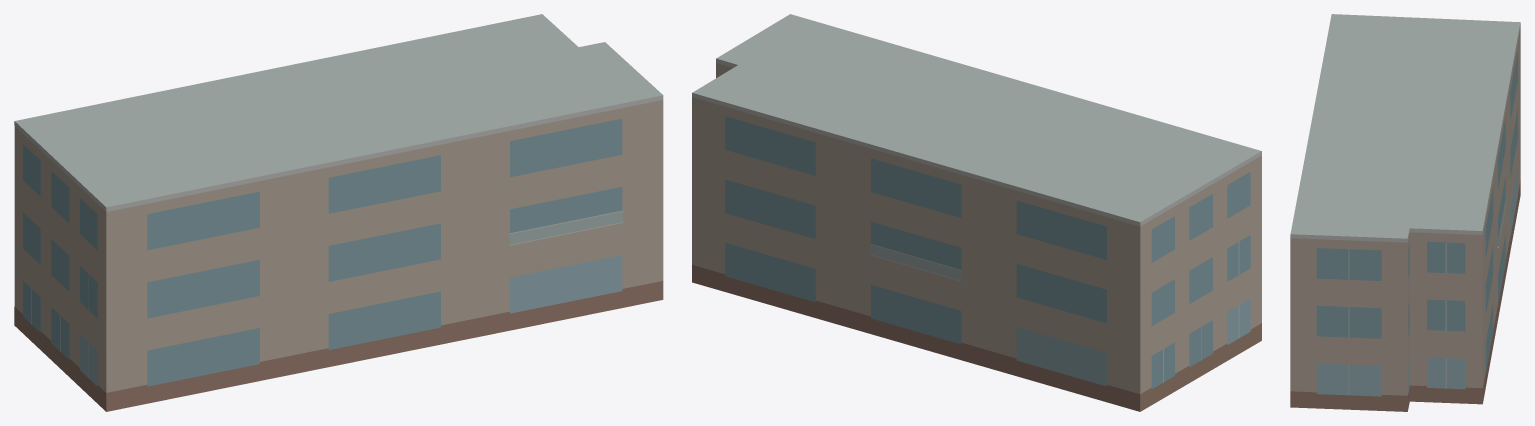
Rendered from survey-upis-32839034.glb.
3 renders of one model, left to right at view 1: azimuth 30°, elevation 25°; view 2: azimuth 150°, elevation 25°; view 3: azimuth 270°, elevation 25°, orthographic. The views are drawn at different scales.
Parts seen in each view (by area): view 1: survey-upis-32839034.tmp; view 2: survey-upis-32839034.tmp; view 3: survey-upis-32839034.tmp.
Part boxes in pixels (left/top/right/bottom): survey-upis-32839034.tmp: left=14, top=14, right=663, bottom=411; survey-upis-32839034.tmp: left=692, top=14, right=1261, bottom=411; survey-upis-32839034.tmp: left=1290, top=14, right=1520, bottom=411.
Size of the model in its own units: 30.05 by 10.8 by 13.01.
